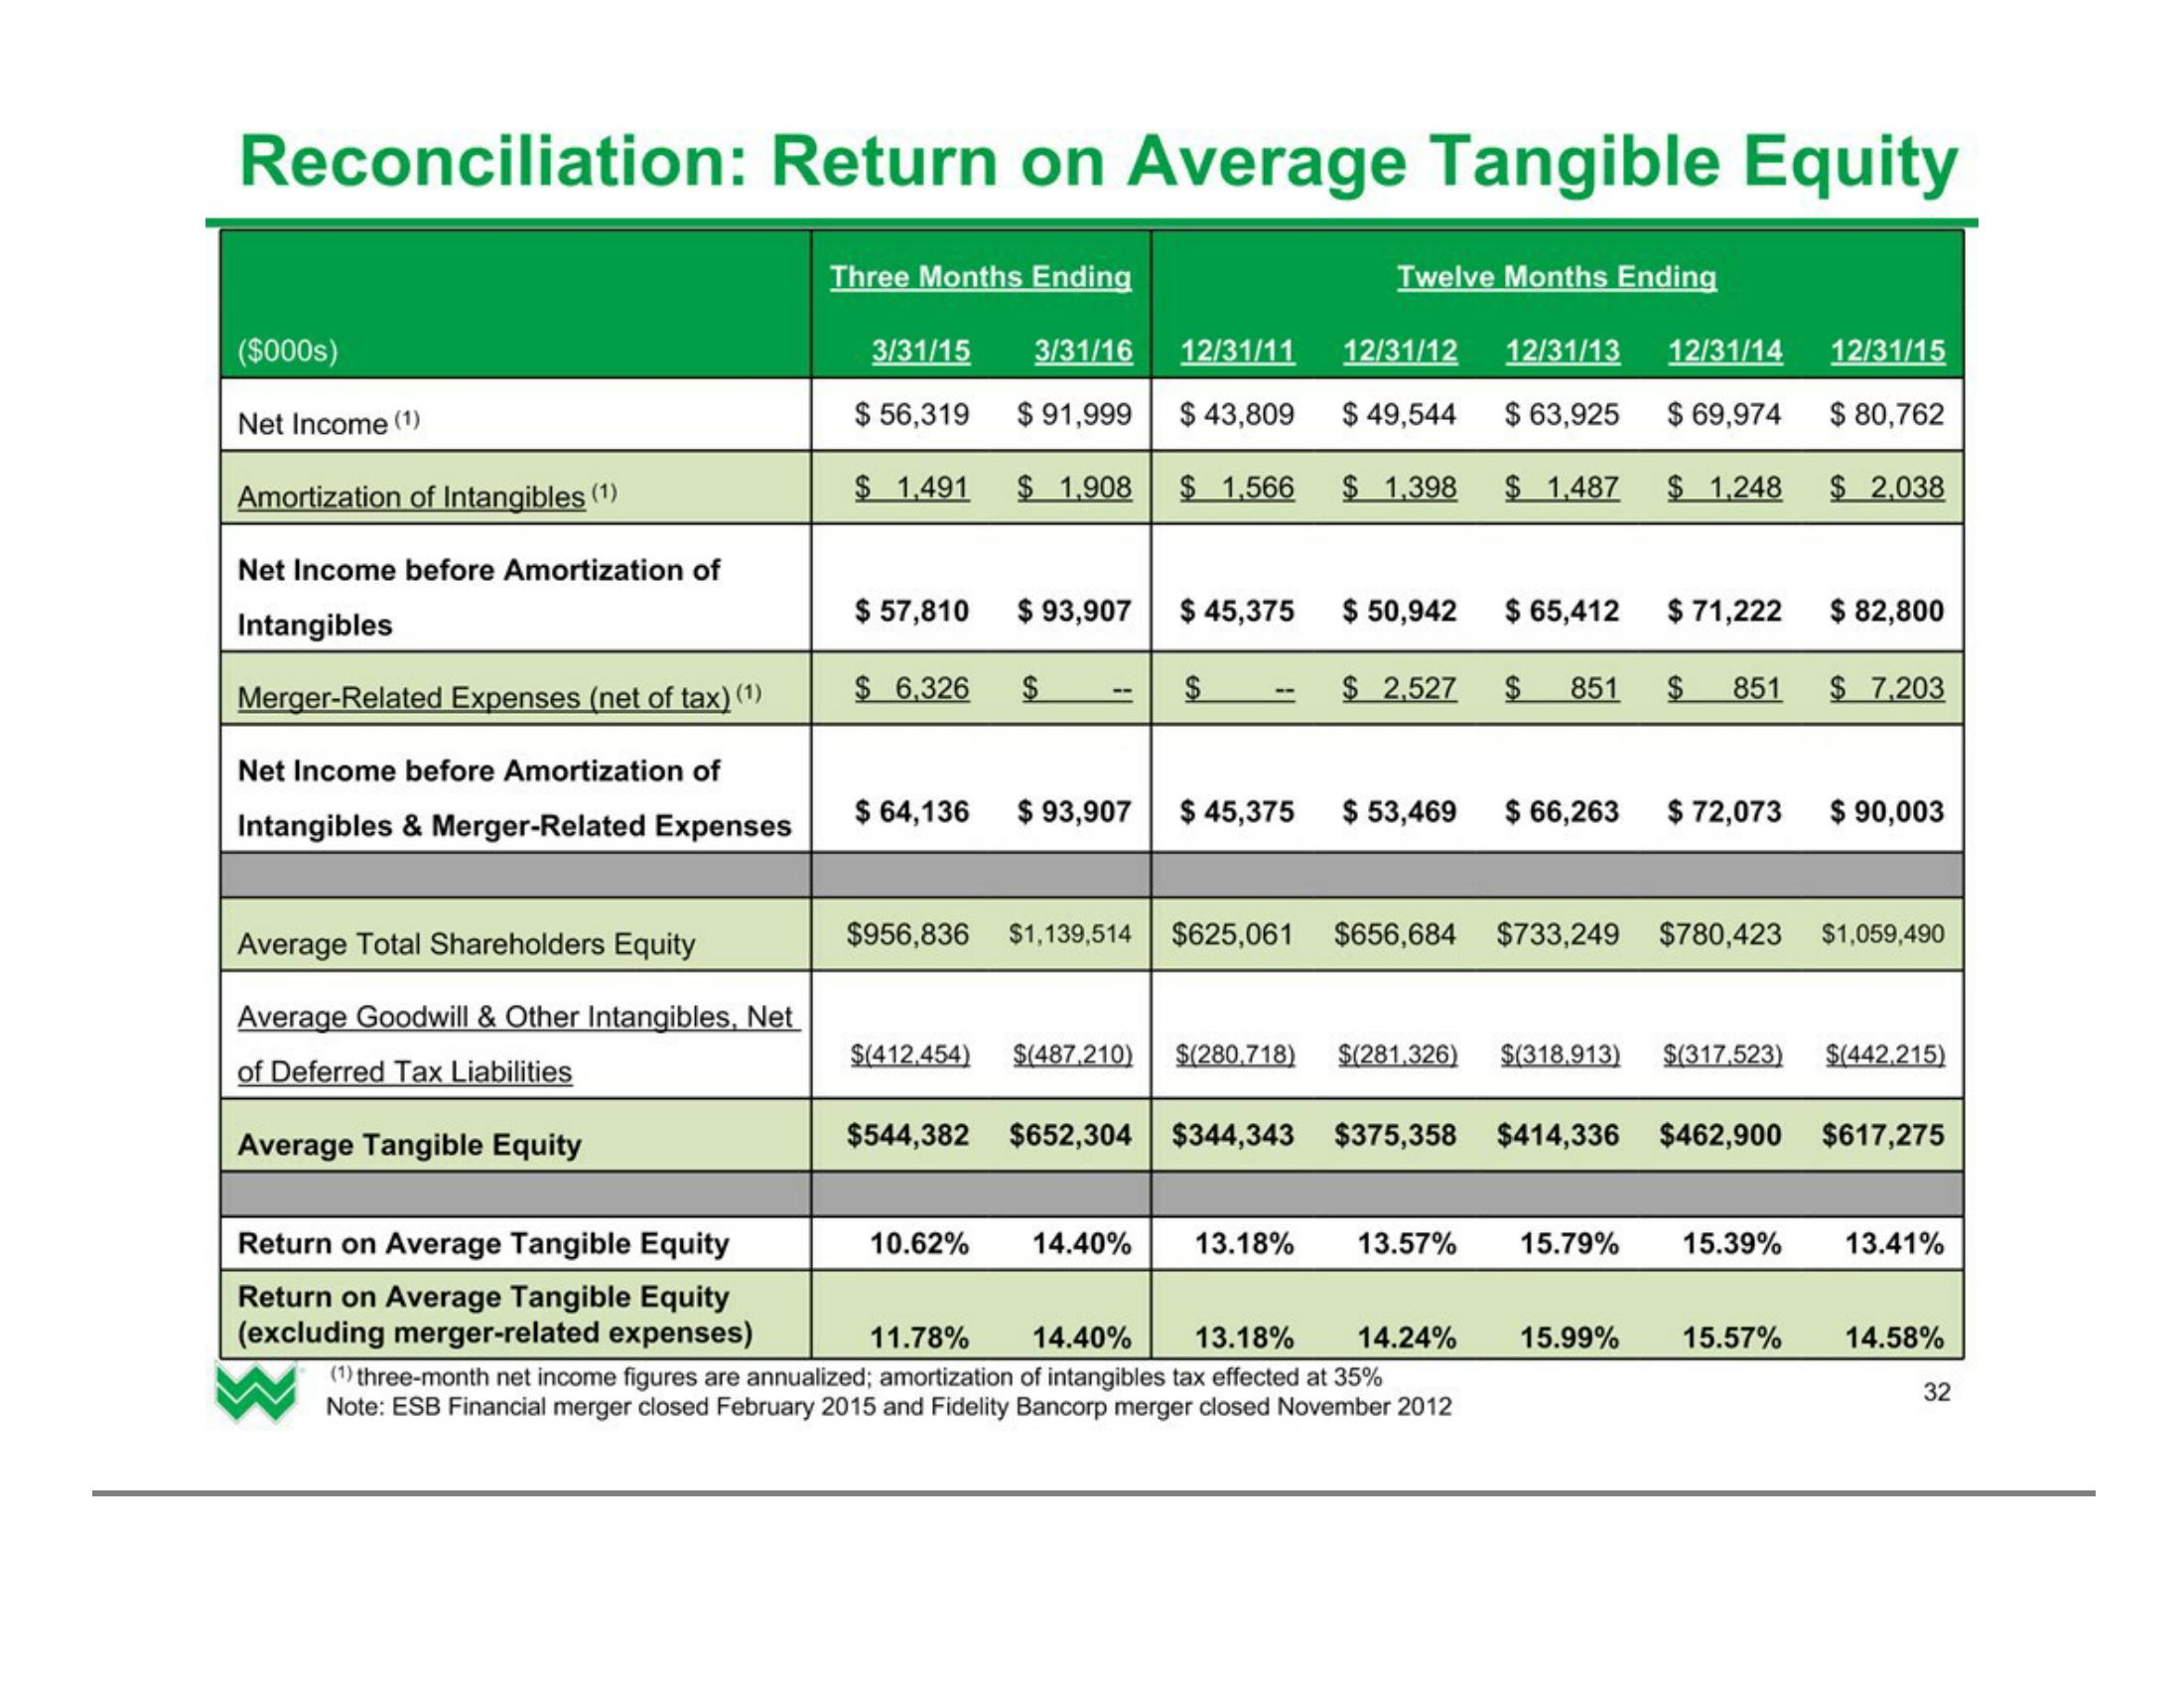table: (209, 216, 1971, 1365)
